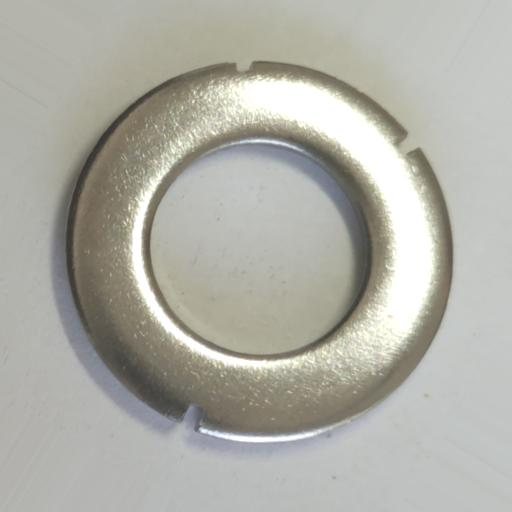burr: (393, 131, 421, 156), (182, 404, 206, 431), (236, 60, 255, 73)
